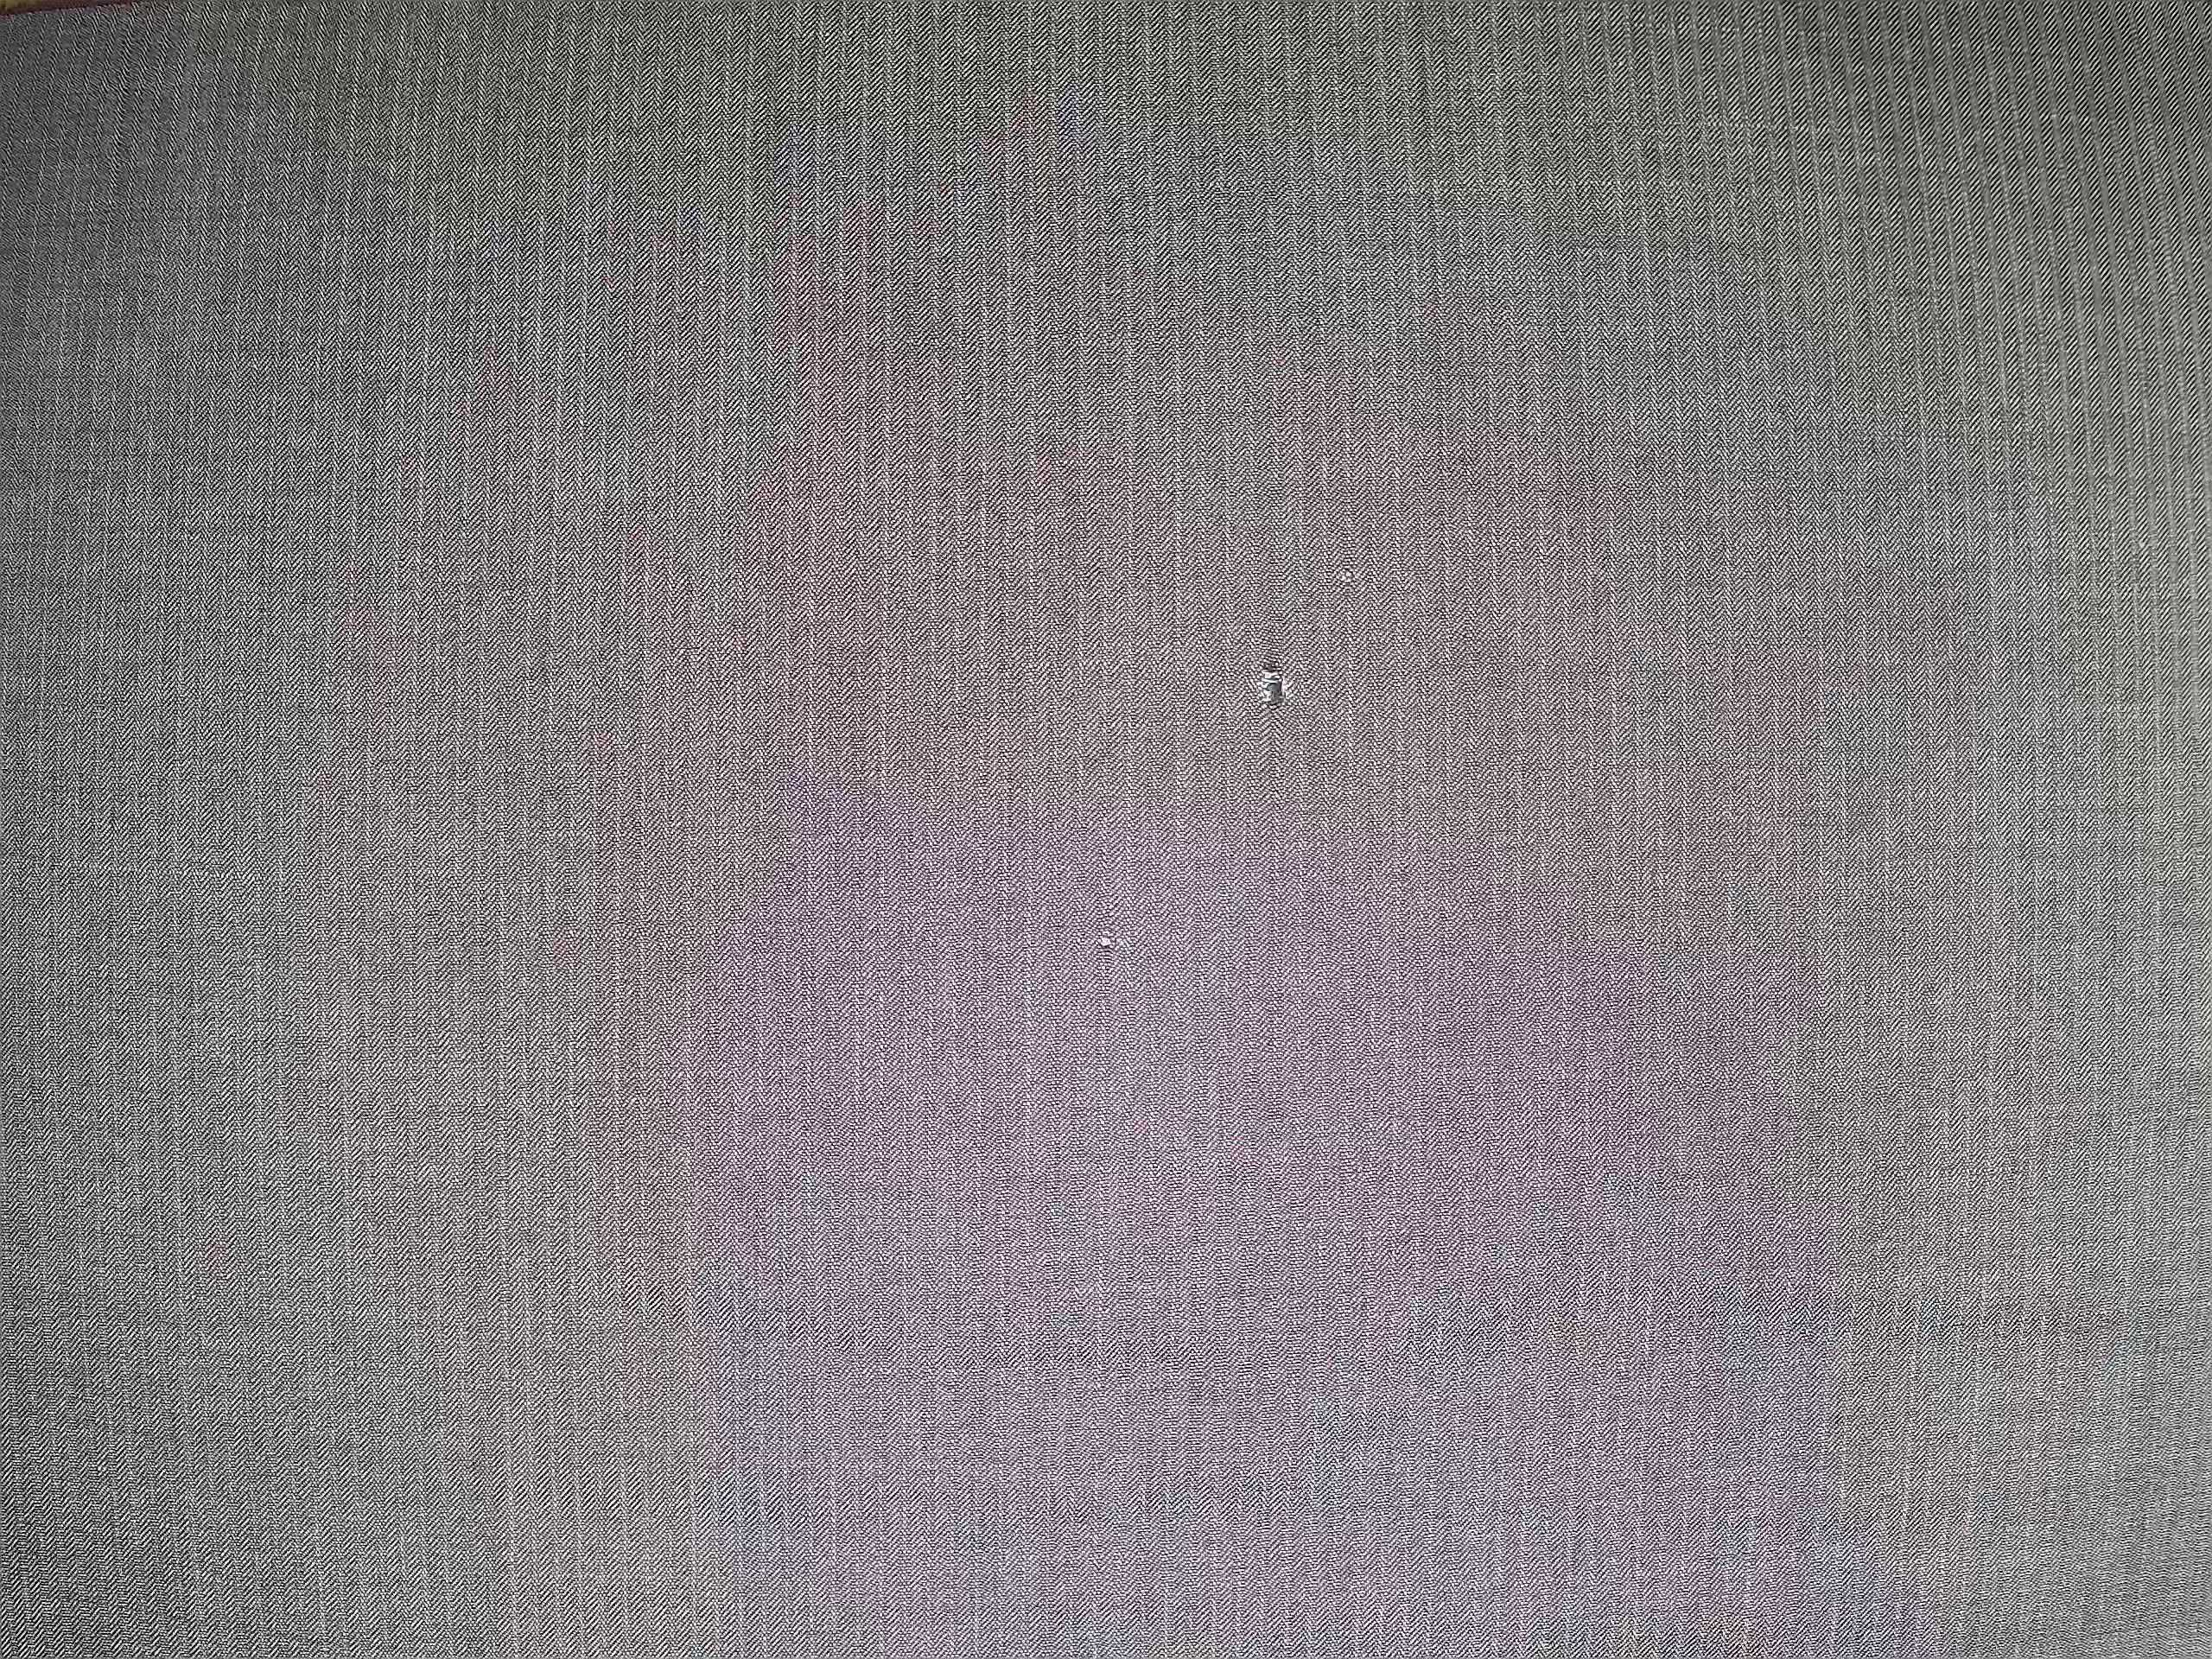tear: (1245, 650, 1303, 721), (1089, 917, 1125, 958), (1332, 561, 1366, 591)
